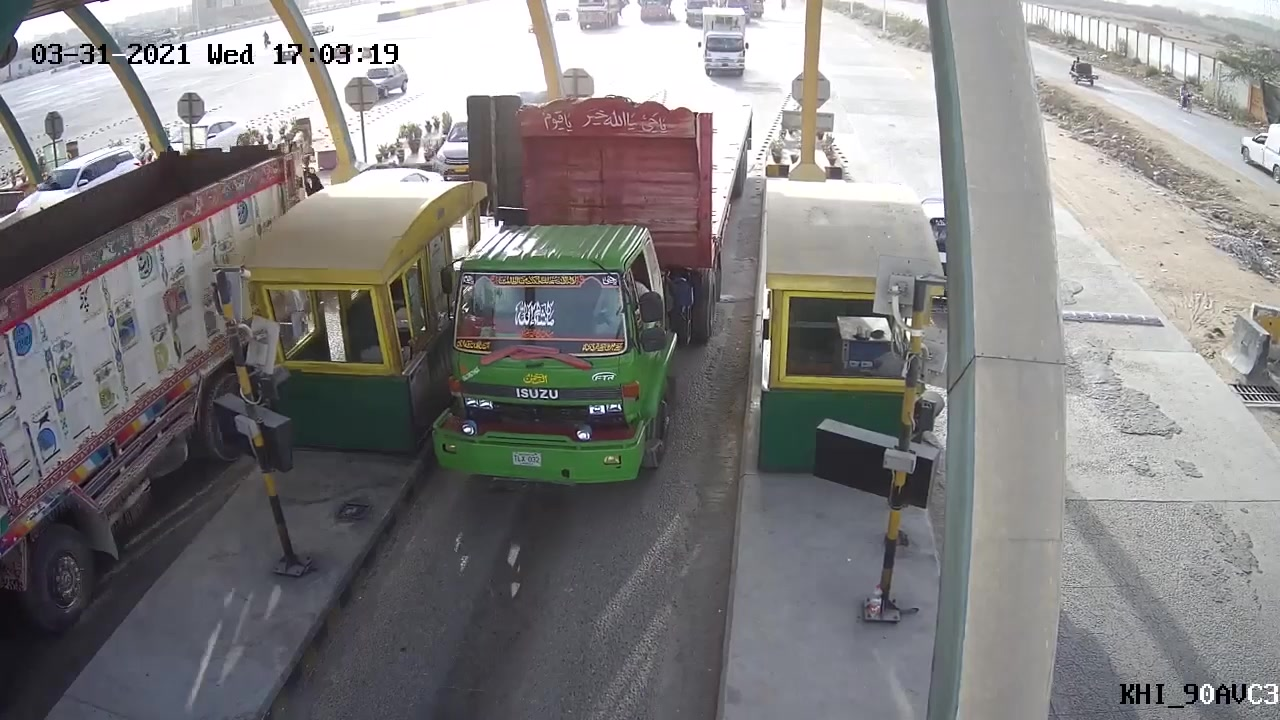F6: (431, 83, 761, 504)
